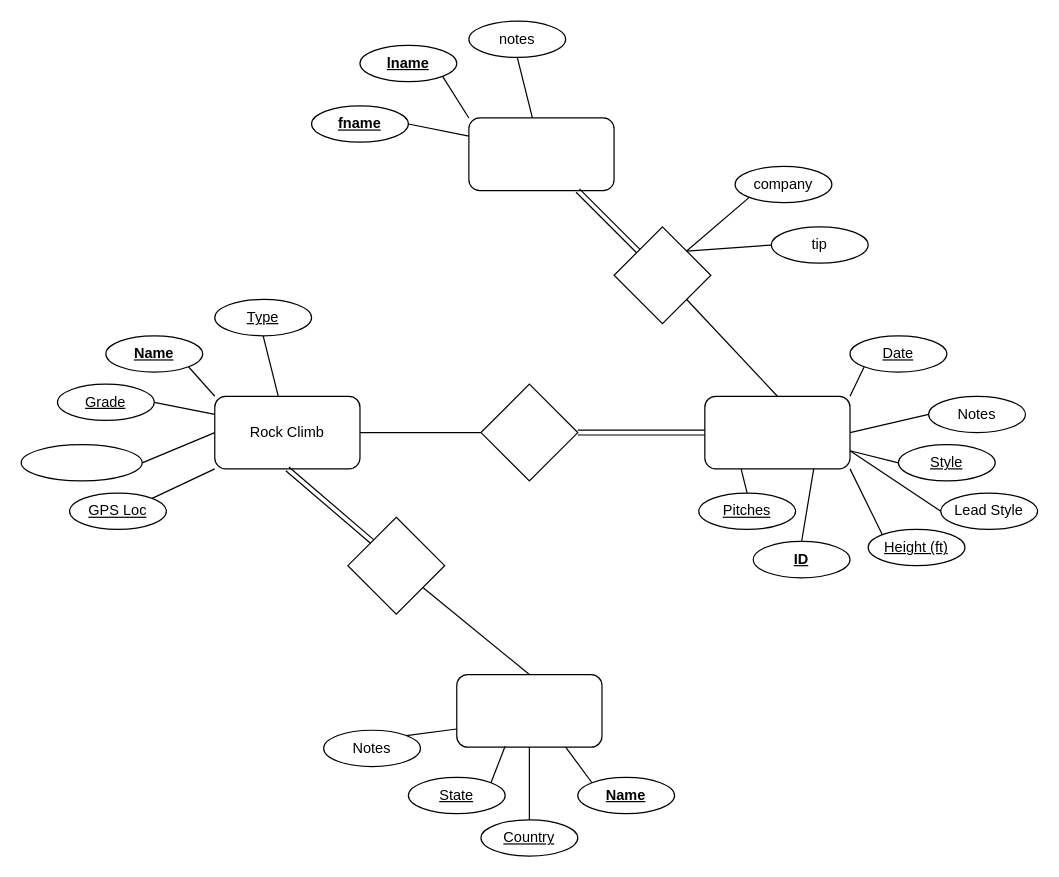
The diagram is 1059 pixels wide and 877 high, and some of its shapes have lost their labels. The shapes that lost their labels are listed below. From the top down, each one's centre as x and y in pixels, then its label:
At point 541,154: "Client".
At point 662,275: "Guided".
At point 529,432: "Climbed".
At point 777,432: "Tick".
At point 81,462: "Commitment".
At point 396,565: "Is in".
At point 529,710: "Climbing Area".
